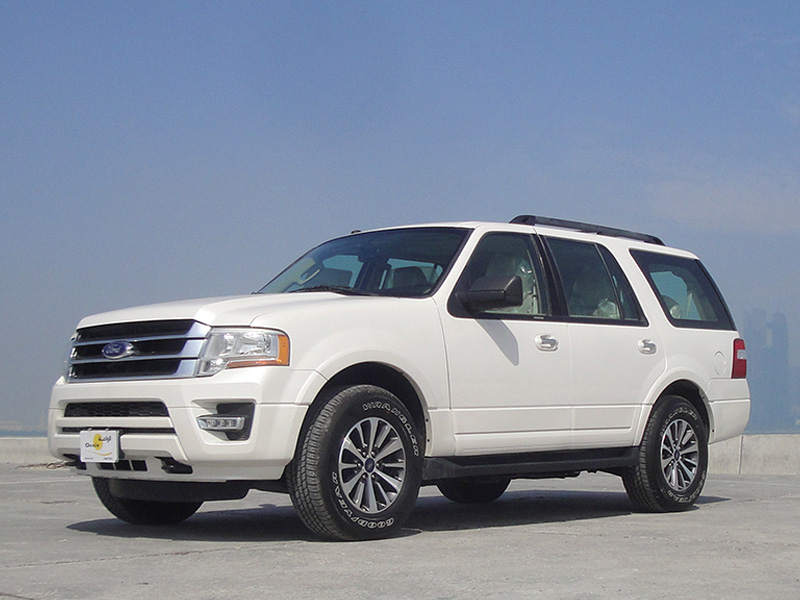other: (62, 217, 755, 553)
